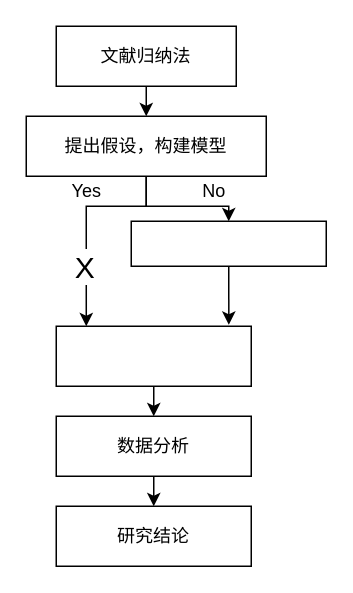
Image size: 353x593. Some labels were removed from this diagram. The shapes that lost their labels are listed below. From the top down, each one's centre as x and y in pixels, then its label:
the point at 228,243: 访谈法，假设/模型修正
the point at 153,355: 问卷调查
